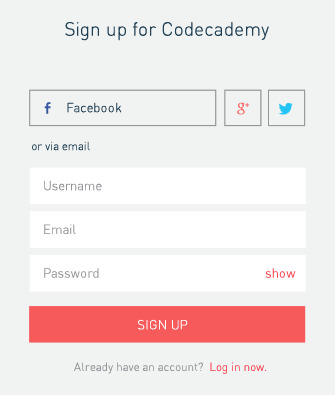_form_: (1, 1, 335, 395)
button: (28, 305, 305, 343), (28, 88, 218, 128), (223, 88, 263, 128), (266, 88, 306, 127)
field: (29, 166, 308, 206), (29, 254, 307, 293), (30, 211, 307, 250)
